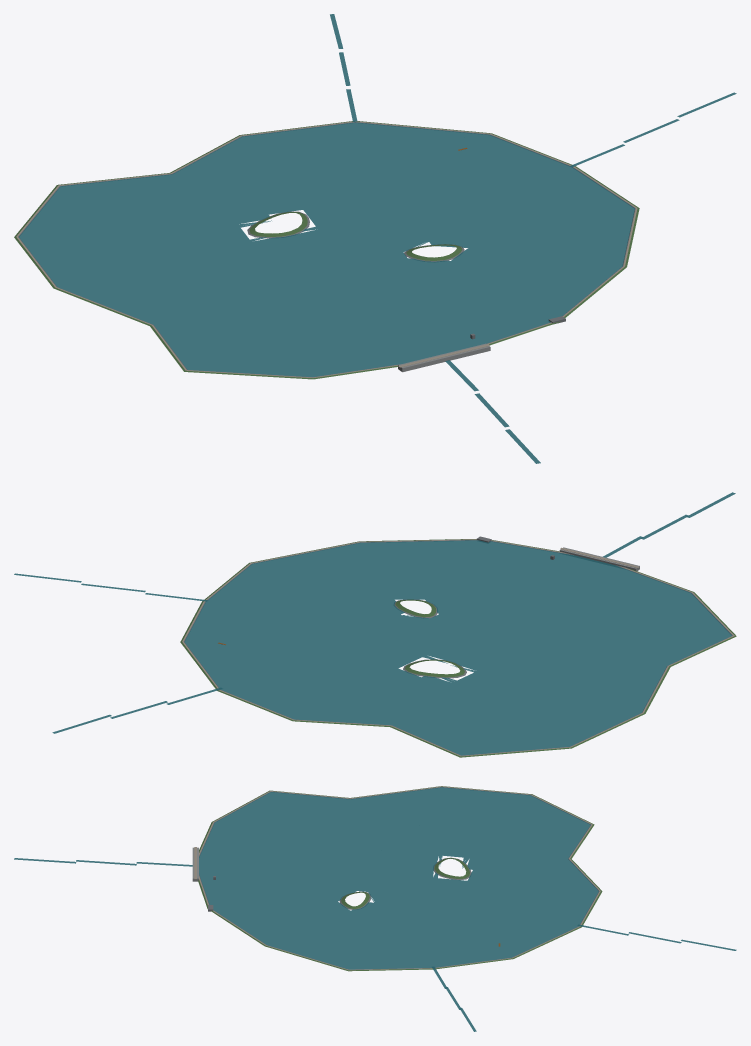
File: water_ho_ka_do_don_duong.glb
The picture shows the model from 3 angles, top to bottom: view 1: azimuth 30°, elevation 25°; view 2: azimuth 150°, elevation 25°; view 3: azimuth 270°, elevation 25°; orthographic projection. The views are drawn at different scales.
Parts seen in each view (by area): view 1: water_surface_water_ho_ka_do_don_duong, shoreline_terrain_transition_verge_water_ho_ka_do_don_duong, lakeside_promenade_walkway_water_ho_ka_do_don_duong, embankment_stone_coping_water_ho_ka_do_don_duong; view 2: water_surface_water_ho_ka_do_don_duong, shoreline_terrain_transition_verge_water_ho_ka_do_don_duong, lakeside_promenade_walkway_water_ho_ka_do_don_duong, embankment_stone_coping_water_ho_ka_do_don_duong, headwater_terraces_stream_ka_do_south_irrigation_canal_to_da, headwater_terraces_stream_ka_do_north_mountain_inflow, embankment_stone_slope_water_ho_ka_do_don_duong; view 3: water_surface_water_ho_ka_do_don_duong, shoreline_terrain_transition_verge_water_ho_ka_do_don_duong, lakeside_promenade_walkway_water_ho_ka_do_don_duong, embankment_stone_coping_water_ho_ka_do_don_duong, headwater_terraces_stream_ka_do_south_irrigation_canal_to_da.
Part boxes in pixels (x1,y1,x2,y2): water_surface_water_ho_ka_do_don_duong: (19, 122, 634, 377); shoreline_terrain_transition_verge_water_ho_ka_do_don_duong: (14, 121, 639, 379); lakeside_promenade_walkway_water_ho_ka_do_don_duong: (16, 121, 637, 377); embankment_stone_coping_water_ho_ka_do_don_duong: (18, 122, 635, 377); water_surface_water_ho_ka_do_don_duong: (184, 540, 732, 755); shoreline_terrain_transition_verge_water_ho_ka_do_don_duong: (180, 539, 736, 757); lakeside_promenade_walkway_water_ho_ka_do_don_duong: (182, 539, 734, 756); embankment_stone_coping_water_ho_ka_do_don_duong: (183, 540, 732, 755); headwater_terraces_stream_ka_do_south_irrigation_canal_to_da: (603, 492, 735, 557); headwater_terraces_stream_ka_do_north_mountain_inflow: (52, 687, 222, 733); embankment_stone_slope_water_ho_ka_do_don_duong: (184, 540, 731, 708); water_surface_water_ho_ka_do_don_duong: (199, 787, 598, 969); shoreline_terrain_transition_verge_water_ho_ka_do_don_duong: (198, 786, 602, 971); lakeside_promenade_walkway_water_ho_ka_do_don_duong: (199, 786, 600, 970); embankment_stone_coping_water_ho_ka_do_don_duong: (199, 787, 599, 969); headwater_terraces_stream_ka_do_south_irrigation_canal_to_da: (14, 858, 192, 866).
Size of the model in its own units: 2204 by 45.5 by 2689.
